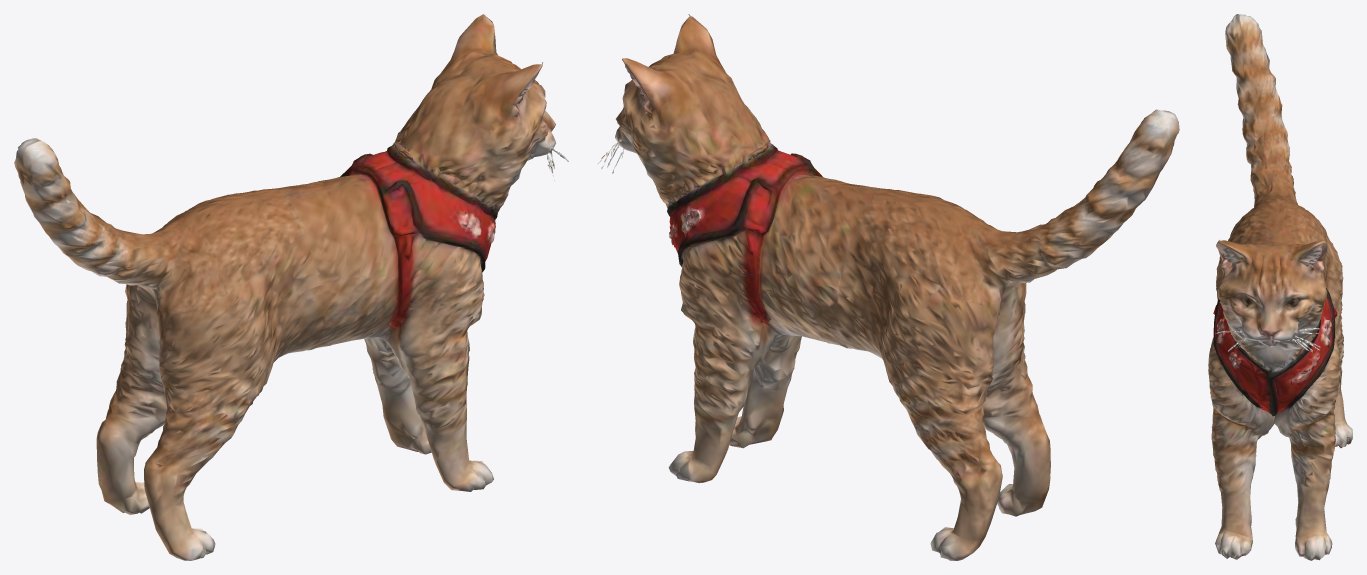
The model's file is MIKANCAT.glb.
3 views of the same model, side by side, from view 1: azimuth 30°, elevation 25°; view 2: azimuth 150°, elevation 25°; view 3: azimuth 270°, elevation 25° (orthographic). The views are drawn at different scales.
Visible parts, largest first — view 1: tripo_node_ca1c87f8-a32a-4d01-a97c-862ac9f56644; view 2: tripo_node_ca1c87f8-a32a-4d01-a97c-862ac9f56644; view 3: tripo_node_ca1c87f8-a32a-4d01-a97c-862ac9f56644.
Boxes of the visible parts, left/top/right/bottom form: tripo_node_ca1c87f8-a32a-4d01-a97c-862ac9f56644: left=14, top=14, right=568, bottom=560; tripo_node_ca1c87f8-a32a-4d01-a97c-862ac9f56644: left=598, top=14, right=1179, bottom=560; tripo_node_ca1c87f8-a32a-4d01-a97c-862ac9f56644: left=1208, top=14, right=1352, bottom=560.
Bounding box in the file's own units: 1.29 × 0.9984 × 0.3576.
Materials: 1 (1 with a texture image).
